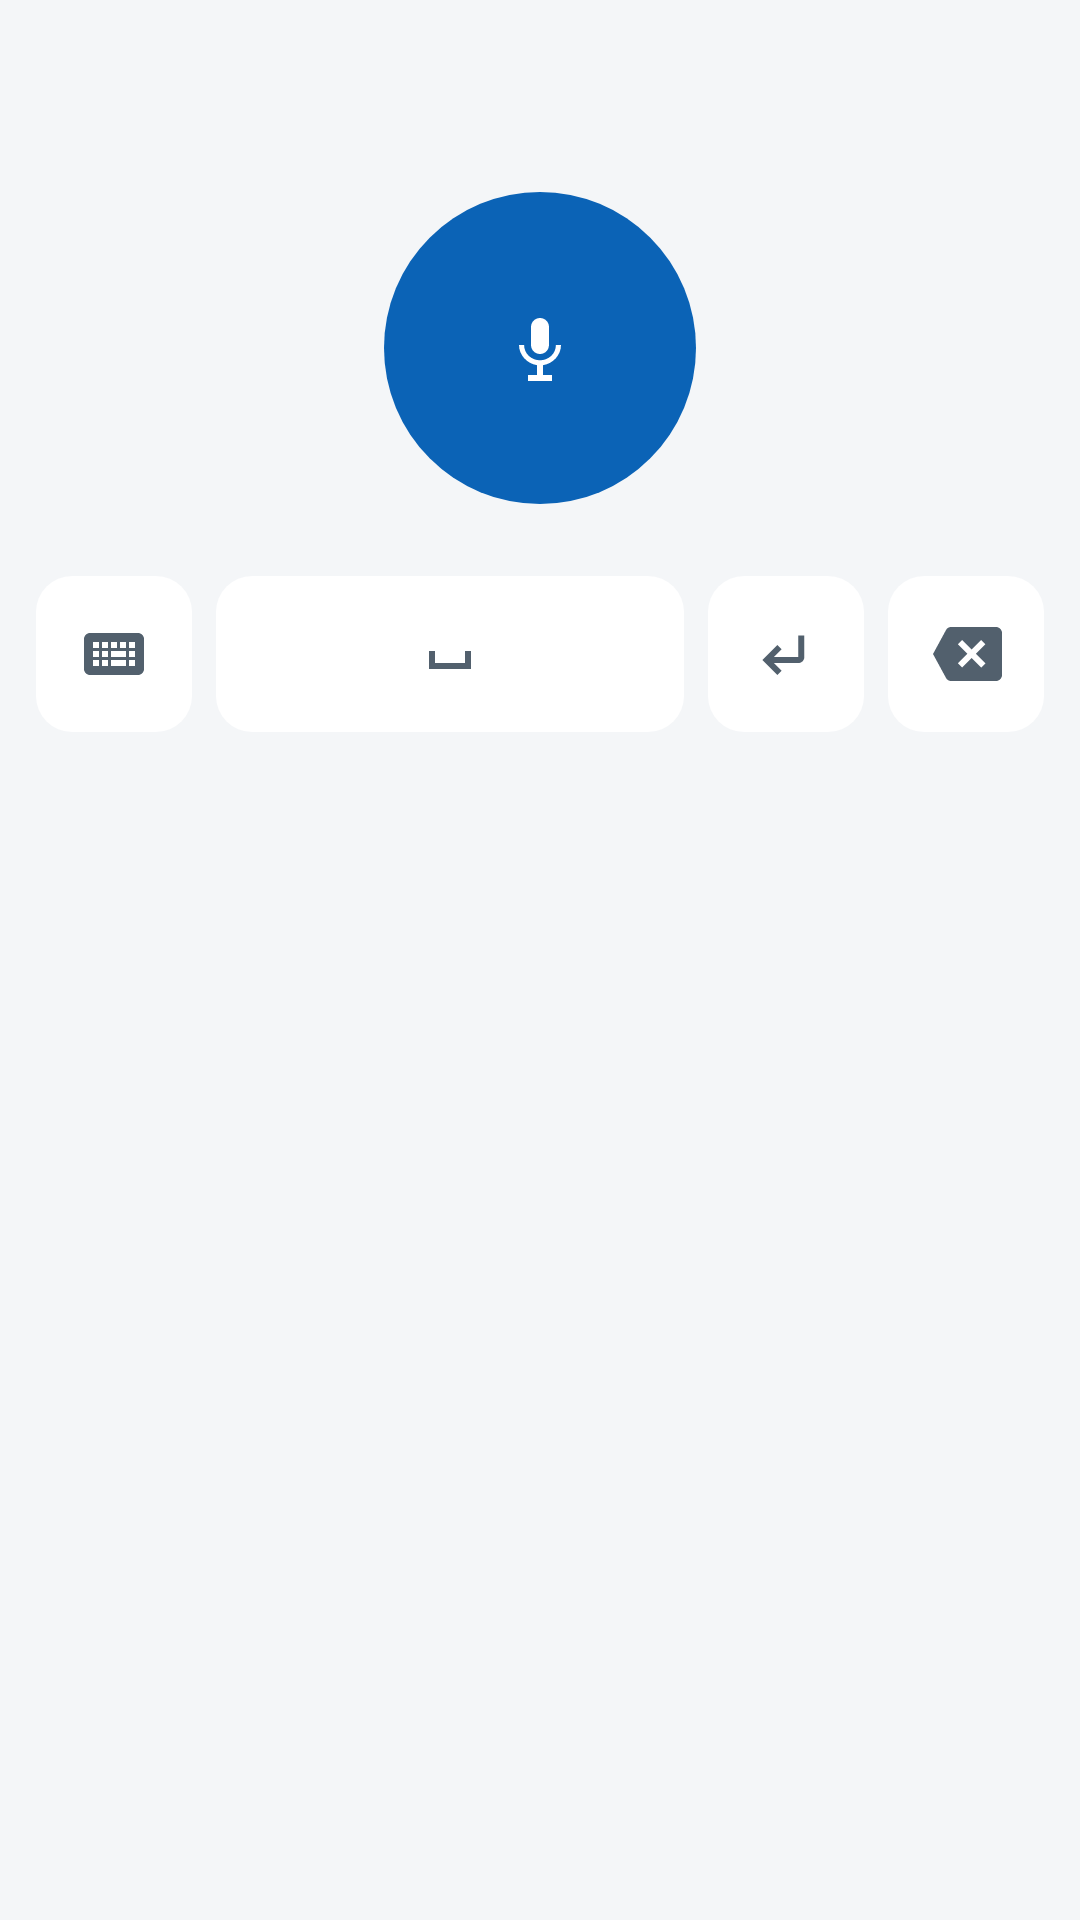

Icon bounding boxes for this 1080w x 1920h phone screenshot, format box(x1, y1, x2, y2):
Delete: box(933, 627, 1002, 681)
Enter: box(708, 576, 864, 732)
Record: box(384, 192, 696, 504)
Return to previous keyboard: box(84, 633, 144, 675)
Space: box(429, 651, 471, 669)
